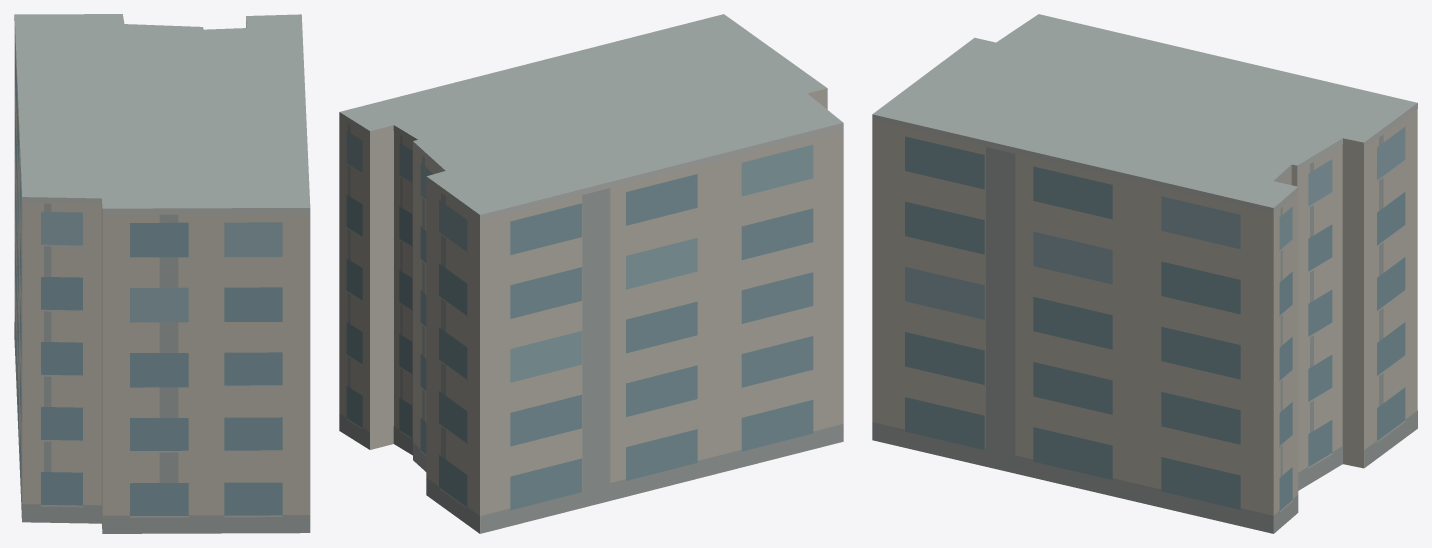
Rendered from survey-upis-32941057.glb.
3 views of the same model, side by side, from view 1: azimuth 30°, elevation 25°; view 2: azimuth 150°, elevation 25°; view 3: azimuth 270°, elevation 25° (orthographic). The views are drawn at different scales.
Parts seen in each view (by area): view 1: survey-upis-32941057.tmp; view 2: survey-upis-32941057.tmp; view 3: survey-upis-32941057.tmp.
Part boxes in pixels (left/top/right/bottom): survey-upis-32941057.tmp: left=14, top=14, right=310, bottom=533; survey-upis-32941057.tmp: left=339, top=14, right=843, bottom=533; survey-upis-32941057.tmp: left=872, top=14, right=1417, bottom=533.
Bounding box in the file's own units: 16.48 × 12.9 × 19.58.
